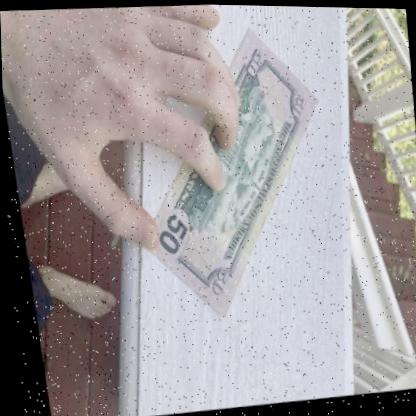fifty-back: (137, 32, 316, 320)
